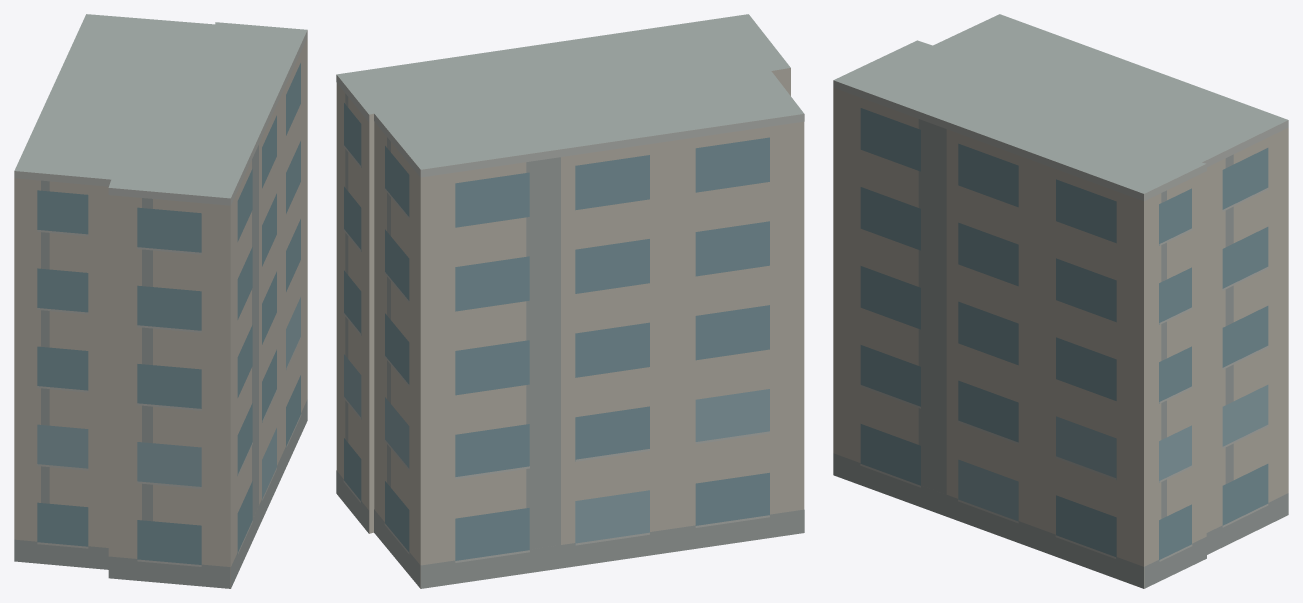
Rendered from survey-upis-32801589.glb.
The picture shows the model from 3 angles, left to right: view 1: azimuth 30°, elevation 25°; view 2: azimuth 150°, elevation 25°; view 3: azimuth 270°, elevation 25°; orthographic projection. The views are drawn at different scales.
Parts seen in each view (by area): view 1: survey-upis-32801589.tmp; view 2: survey-upis-32801589.tmp; view 3: survey-upis-32801589.tmp.
Part boxes in pixels (box(x1,y1,x2,y2)): survey-upis-32801589.tmp: box(14, 14, 307, 588); survey-upis-32801589.tmp: box(336, 14, 804, 588); survey-upis-32801589.tmp: box(833, 14, 1288, 588).
Size of the model in its own units: 12.81 by 13.1 by 13.7.
